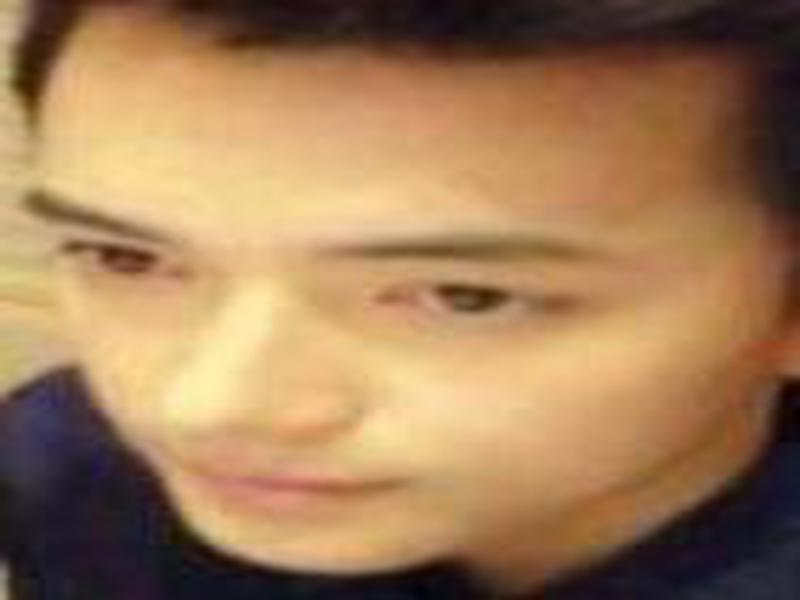without_mask: (27, 38, 742, 574)
